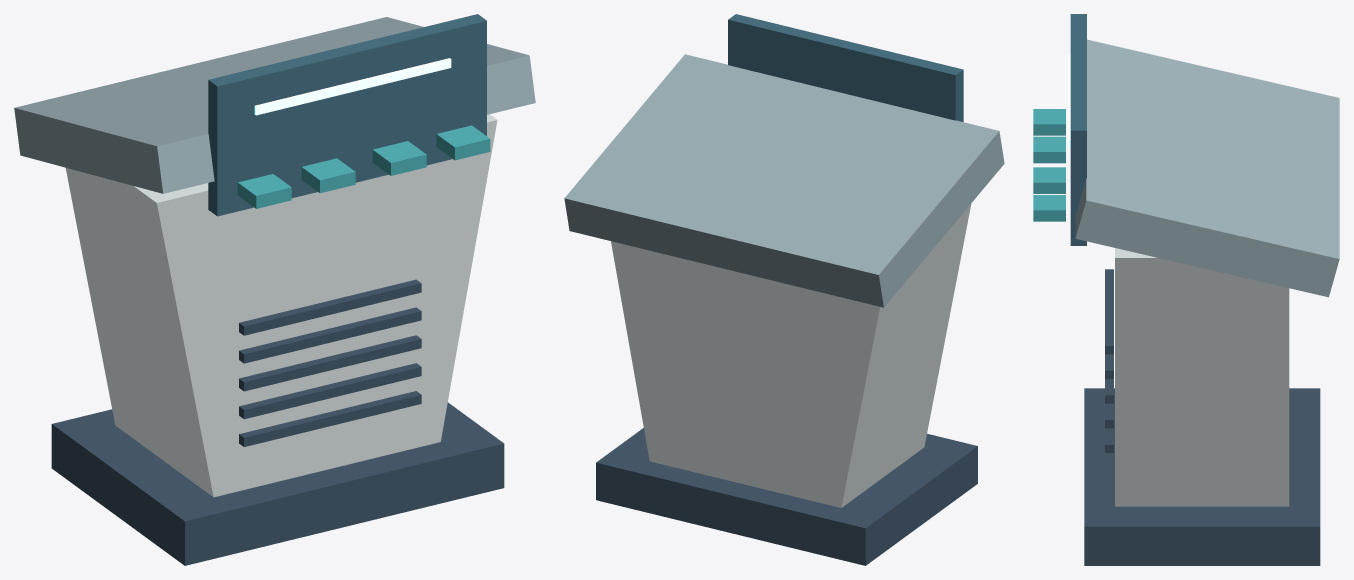
The model's file is orbital-field-station-standing-survey-console__152.glb.
3 renders of one model, left to right at view 1: azimuth 30°, elevation 25°; view 2: azimuth 150°, elevation 25°; view 3: azimuth 270°, elevation 25°, orthographic. The views are drawn at different scales.
Parts seen in each view (by area): view 1: shell, dark, glass, metal, accent, light; view 2: metal, shell, dark, glass; view 3: metal, shell, dark, accent, glass.
Part boxes in pixels (x1=…): shell: x1=65, y1=114, x2=497, y2=497; dark: x1=51, y1=279, x2=504, y2=565; glass: x1=208, y1=14, x2=486, y2=216; metal: x1=14, y1=17, x2=535, y2=193; accent: x1=237, y1=125, x2=490, y2=208; light: x1=254, y1=58, x2=451, y2=115; metal: x1=564, y1=54, x2=1004, y2=307; shell: x1=611, y1=204, x2=971, y2=507; dark: x1=596, y1=428, x2=977, y2=565; glass: x1=728, y1=14, x2=963, y2=121; metal: x1=1075, y1=39, x2=1339, y2=297; shell: x1=1115, y1=248, x2=1289, y2=506; dark: x1=1084, y1=269, x2=1320, y2=565; accent: x1=1033, y1=109, x2=1065, y2=221; glass: x1=1070, y1=14, x2=1086, y2=245.
Bounding box in the file's own units: 1.05 × 1.29 × 0.8435.
